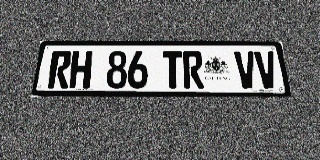6: (127, 51, 148, 88)
8: (106, 51, 128, 88)
H: (69, 51, 93, 88)
R: (47, 51, 72, 88), (183, 51, 204, 88)
T: (162, 51, 183, 88)
V: (254, 51, 279, 88), (234, 51, 258, 88)
